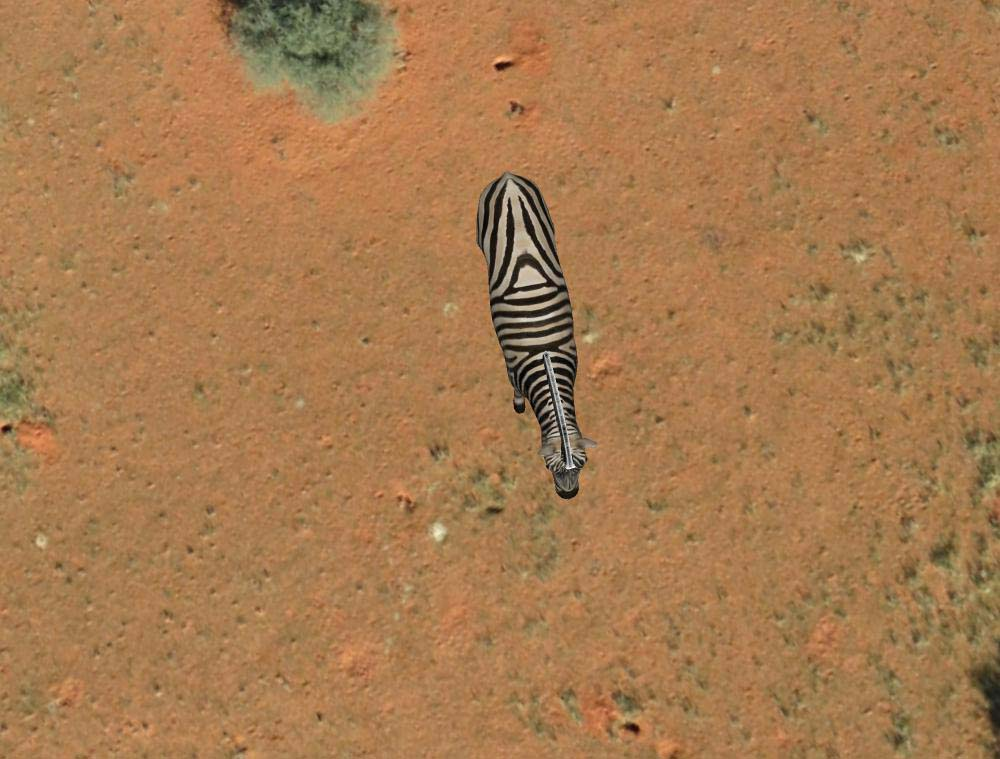zebra: (467, 172, 594, 504)
